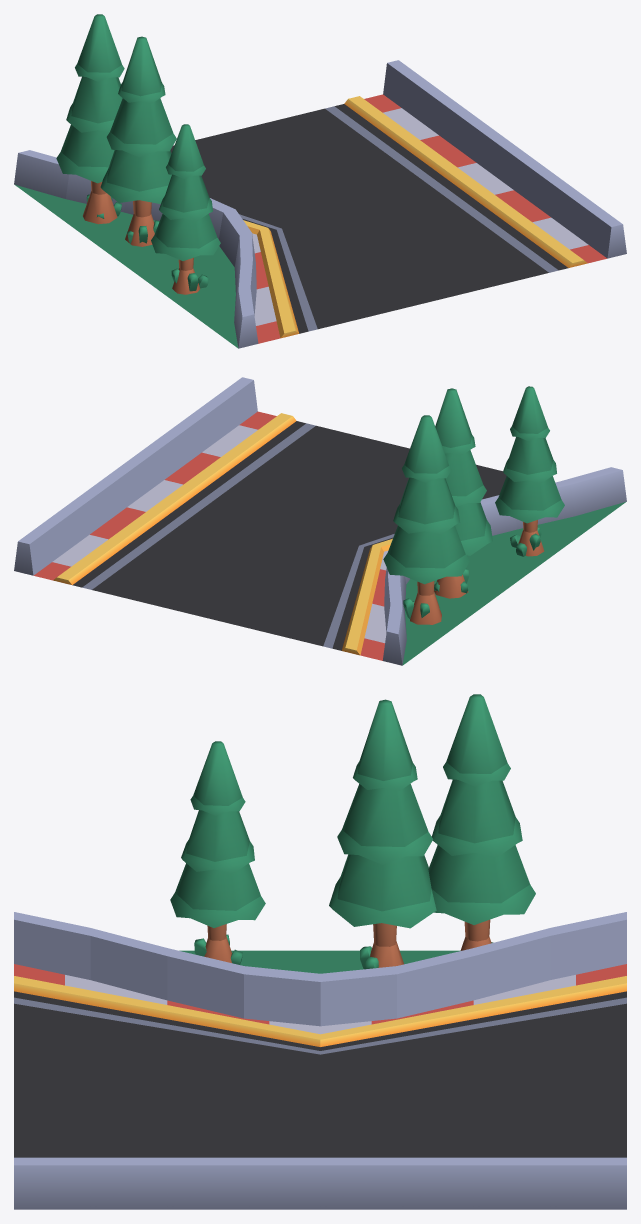
File: track-choke-half.glb
3 renders of one model, top to bottom at view 1: azimuth 30°, elevation 25°; view 2: azimuth 150°, elevation 25°; view 3: azimuth 270°, elevation 25°, orthographic. The views are drawn at different scales.
Visible parts, largest first — view 1: track-straight; view 2: track-straight; view 3: track-straight.
Boxes of the visible parts, x1=… form: track-straight: x1=14, y1=14, x2=626, y2=348; track-straight: x1=14, y1=377, x2=626, y2=665; track-straight: x1=14, y1=694, x2=626, y2=1209.
Size of the model in its own units: 10.16 by 4.94 by 10.
Materials: 1 (1 with a texture image).
